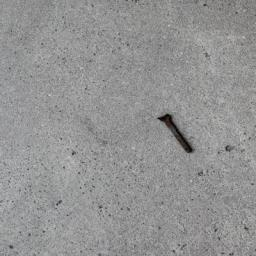FOD: (155, 112, 197, 156)
